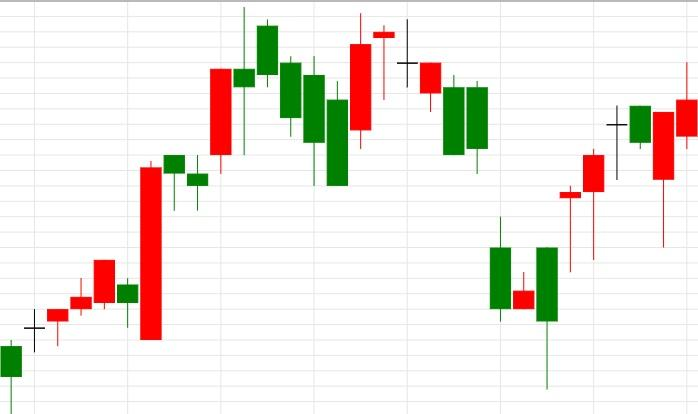hanging_man_fall: (0, 155, 186, 413)
